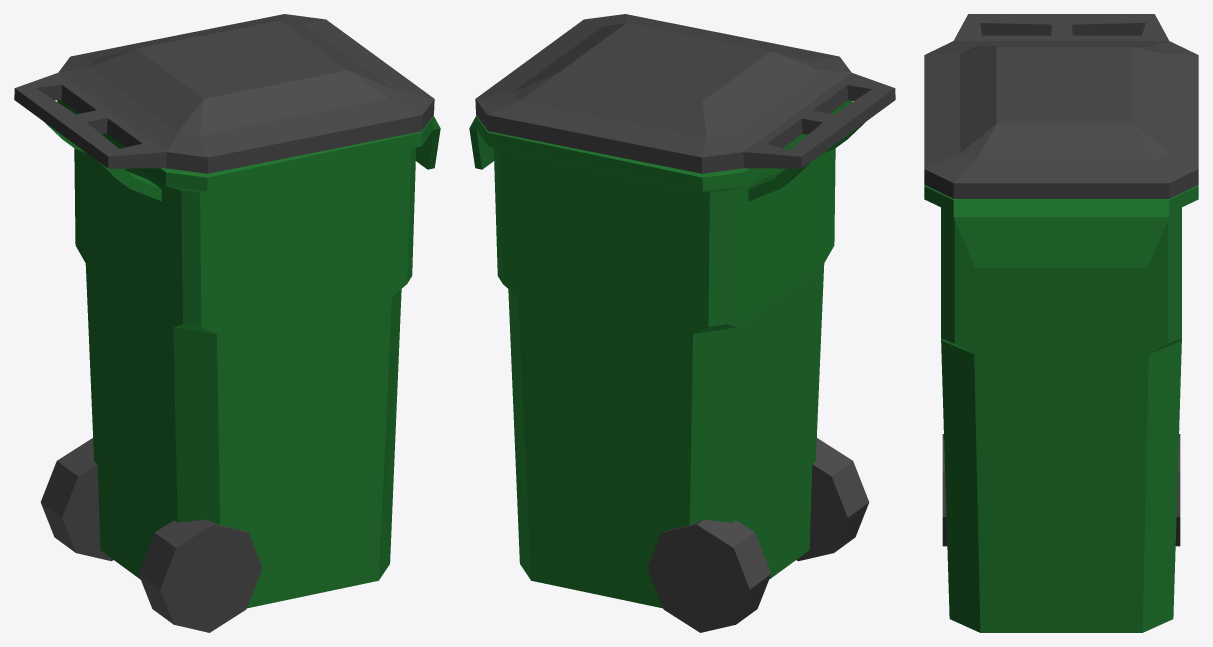
File: garbage_small.fbx
3 renders of one model, left to right at view 1: azimuth 30°, elevation 25°; view 2: azimuth 150°, elevation 25°; view 3: azimuth 270°, elevation 25°, orthographic.
Parts seen in each view (by area): view 1: garbage_small; view 2: garbage_small; view 3: garbage_small.
Part boxes in pixels (left/top/right/bottom): garbage_small: left=14, top=14, right=440, bottom=632; garbage_small: left=469, top=14, right=895, bottom=632; garbage_small: left=924, top=14, right=1198, bottom=632.
Bounding box in the file's own units: 153 × 226 × 111.
